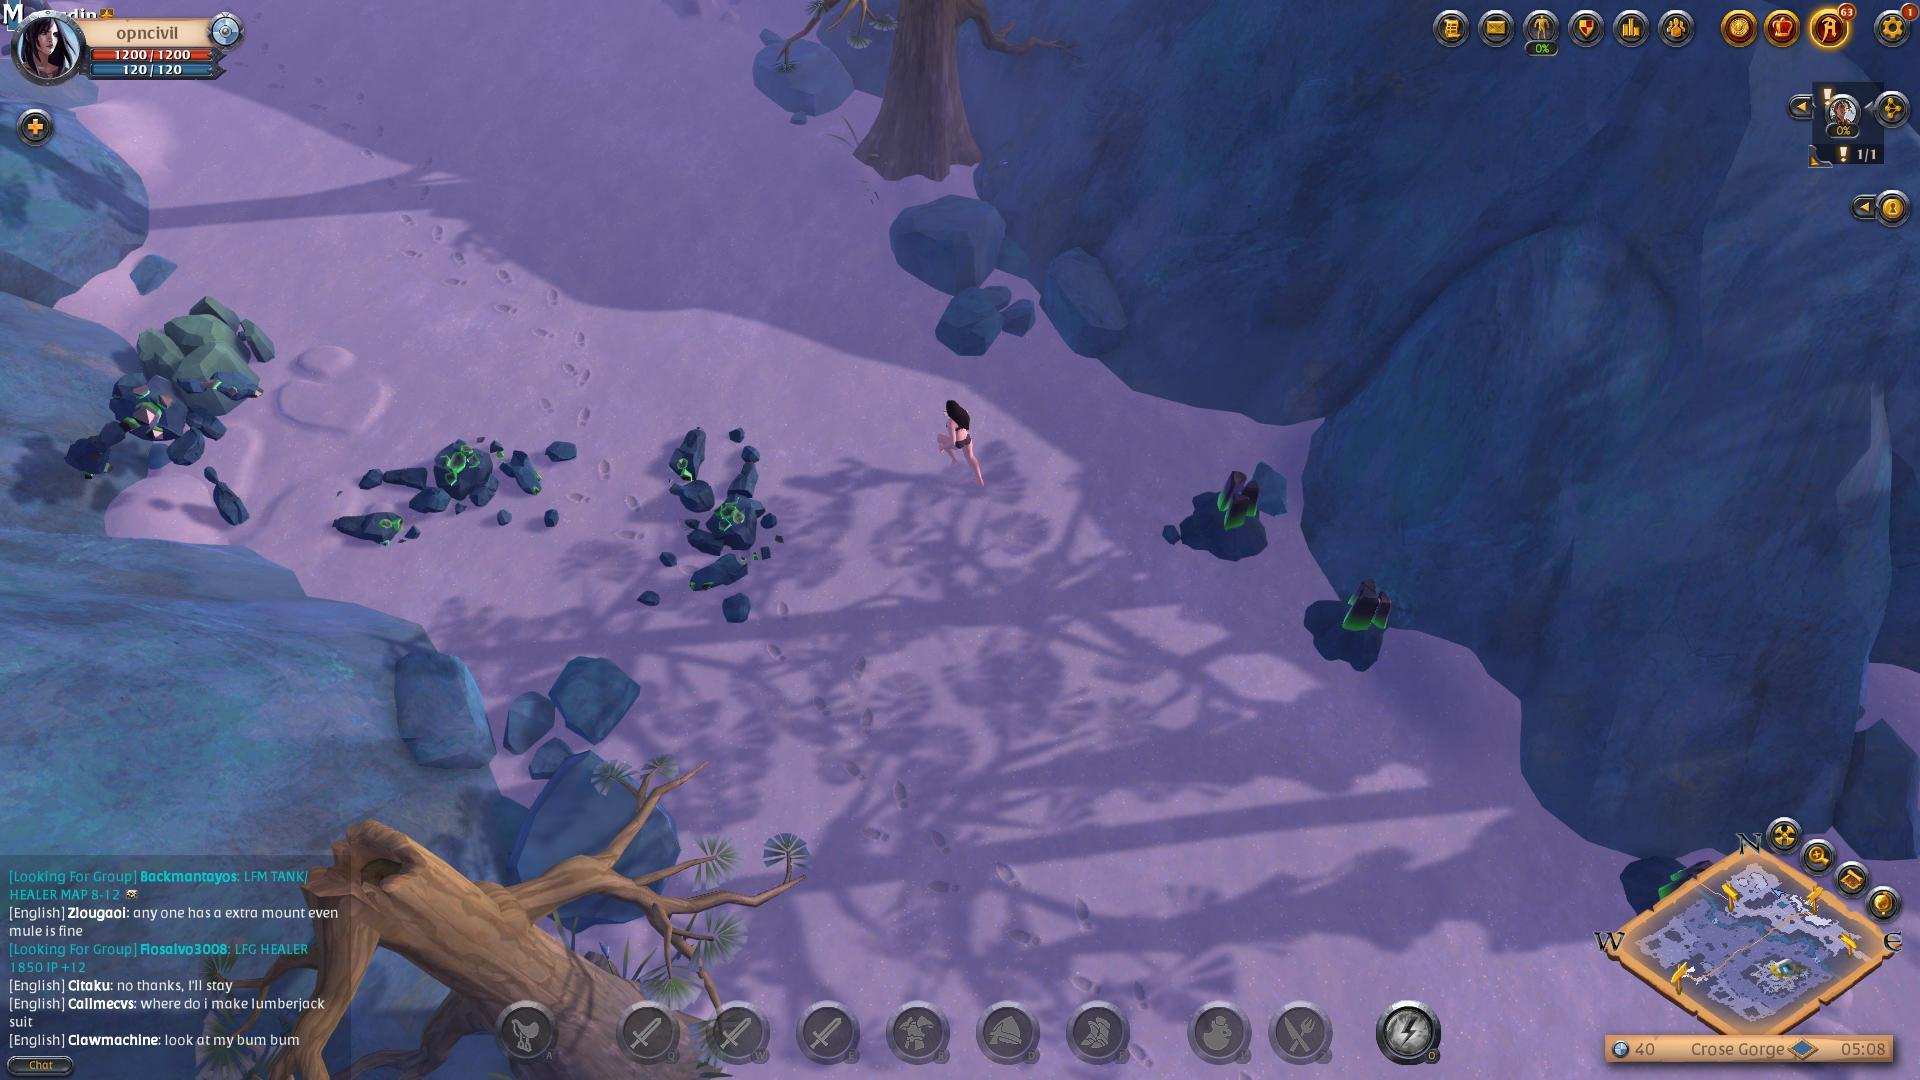sandstone: (128, 294, 281, 411)
tin_ore: (1298, 564, 1411, 680), (1171, 462, 1284, 570)
